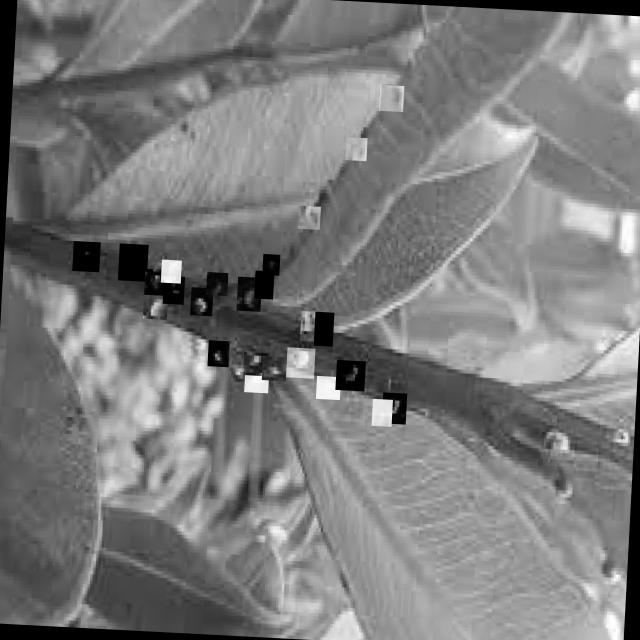scale_insect: (116, 244, 148, 282), (334, 360, 365, 391), (236, 276, 262, 312), (284, 348, 314, 378), (71, 241, 100, 272), (141, 289, 167, 320), (381, 392, 406, 424), (312, 311, 333, 346), (142, 269, 168, 296), (260, 356, 286, 381), (378, 85, 402, 112), (162, 276, 184, 305), (190, 287, 212, 316), (298, 311, 318, 342), (254, 270, 274, 300), (315, 376, 340, 400), (206, 340, 228, 367), (371, 399, 392, 427), (242, 352, 266, 376), (297, 206, 320, 230), (229, 354, 248, 382), (344, 137, 366, 161), (205, 272, 227, 296), (243, 372, 268, 393), (160, 260, 181, 284), (262, 254, 280, 276)
